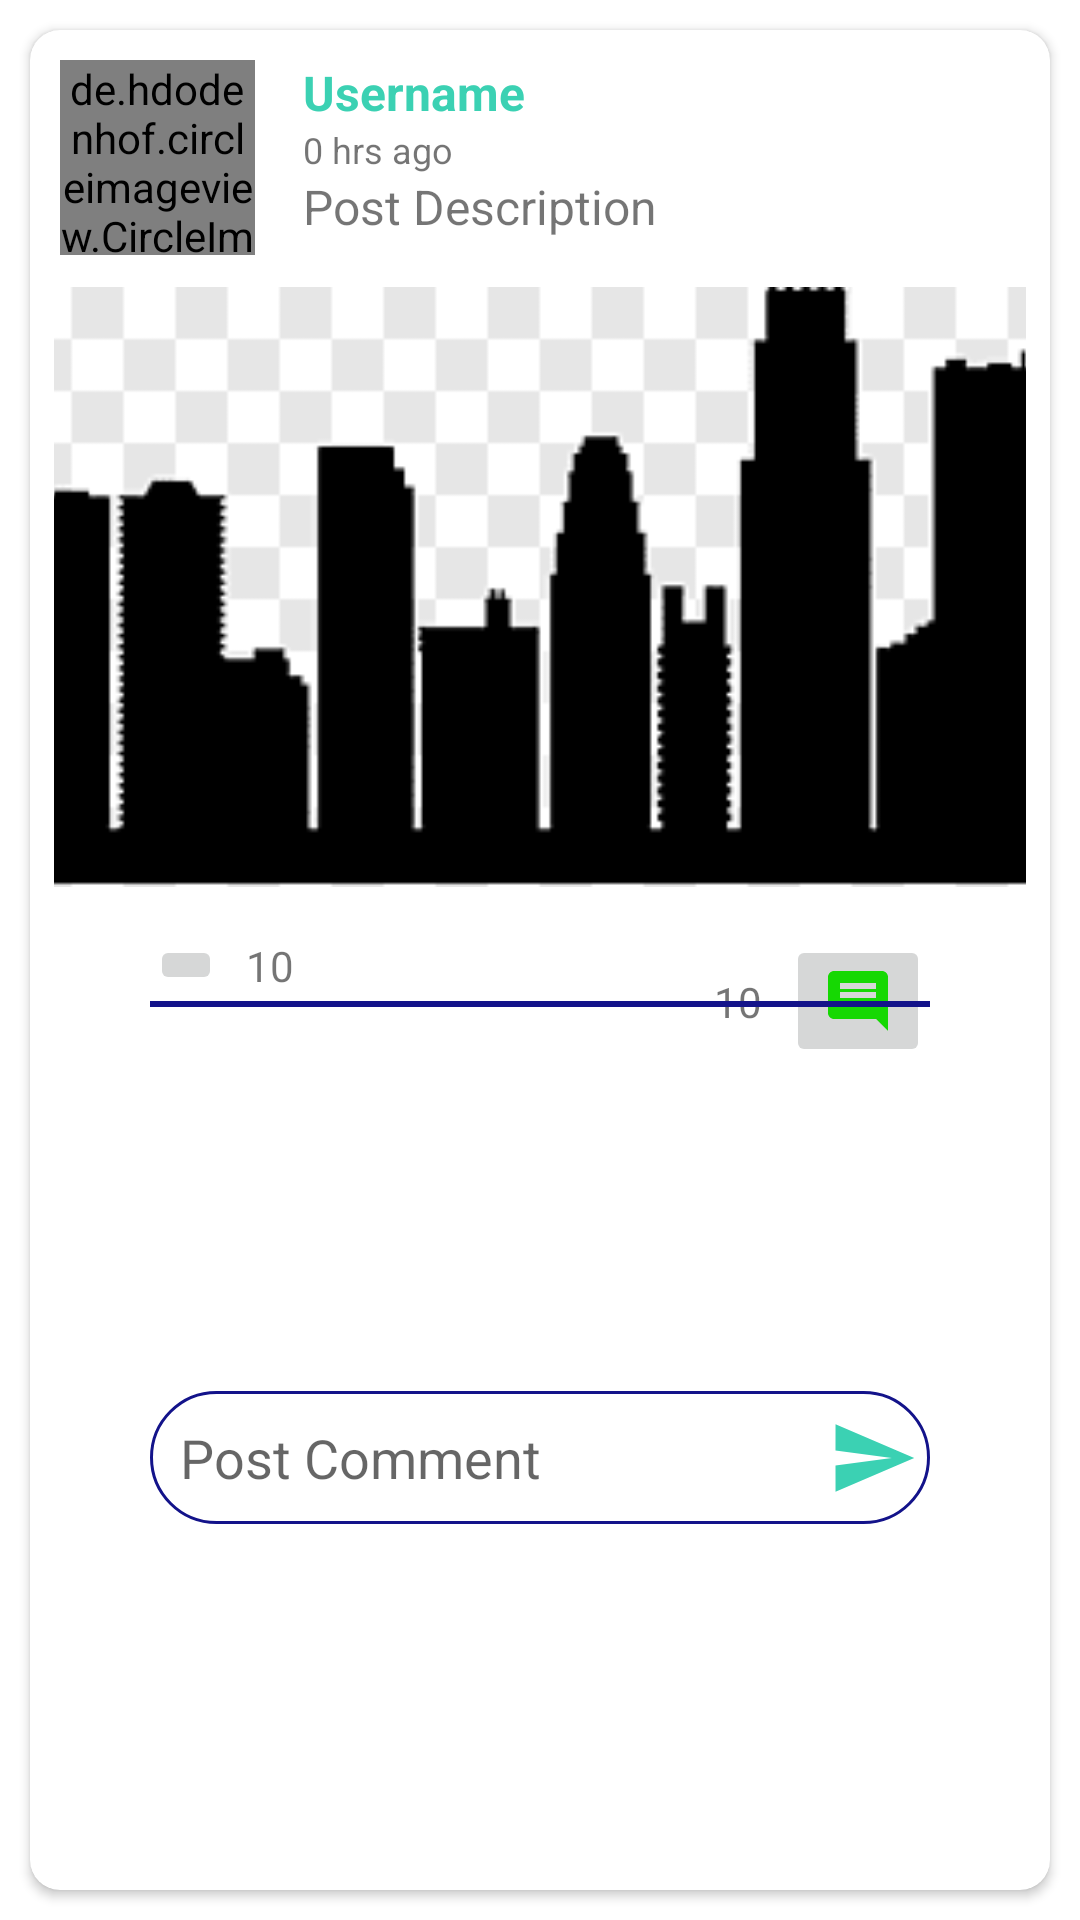

Where to tap for icons on this 1080 × 1920 app screen, as (x,y):
comment: (858,1001)
send: (874,1458)
